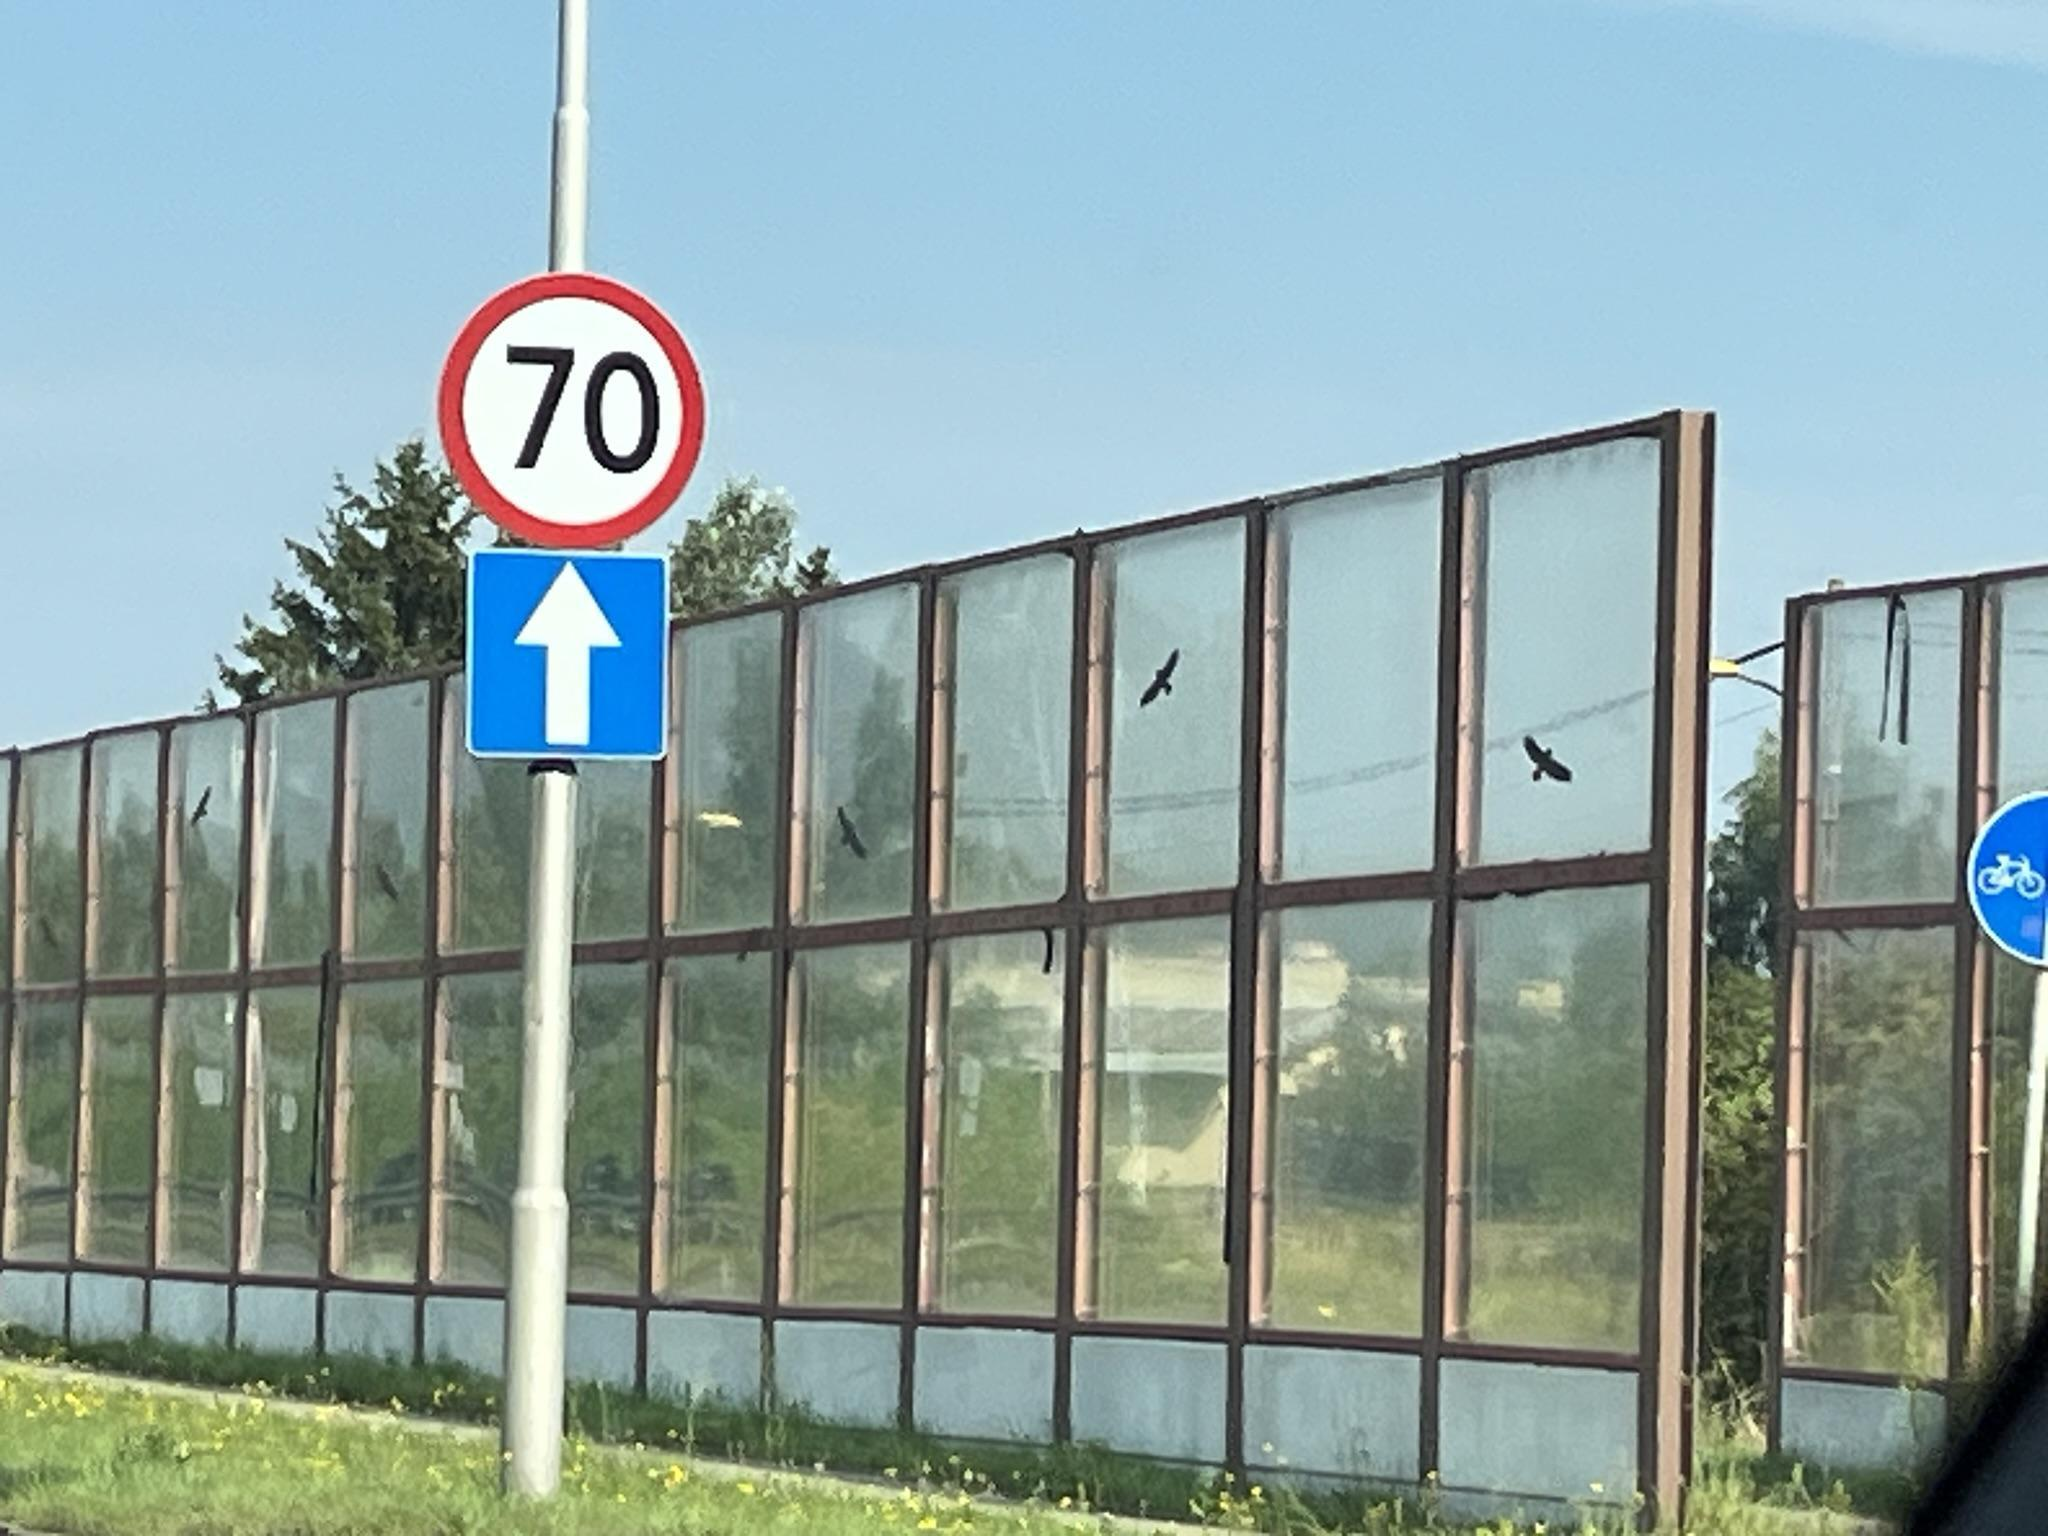information: (464, 550, 668, 760)
mandatory: (1966, 786, 2048, 968)
prohibitory: (434, 268, 710, 553)
